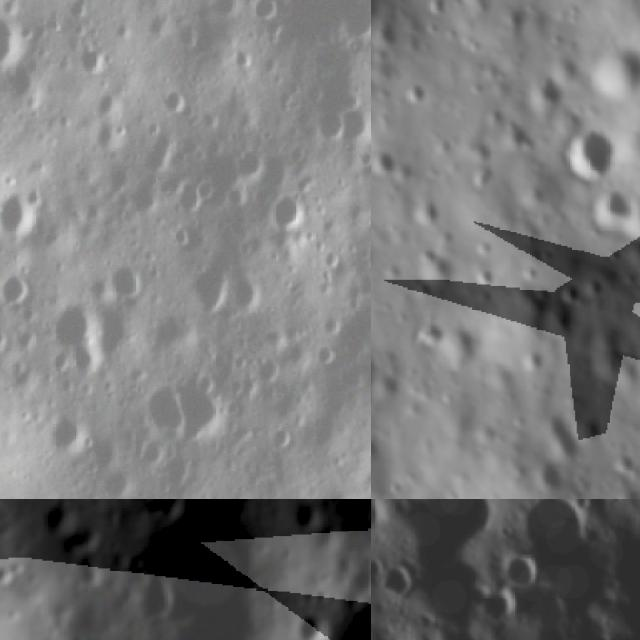crater: (447, 512, 640, 640), (43, 293, 99, 358), (561, 123, 620, 181), (589, 39, 640, 103), (134, 375, 182, 442), (0, 179, 43, 242), (430, 321, 483, 372), (185, 259, 230, 319), (544, 406, 588, 461), (45, 407, 94, 455), (327, 588, 371, 640), (476, 582, 516, 638), (268, 186, 316, 232), (327, 0, 371, 47), (0, 9, 31, 75), (506, 547, 546, 598), (594, 186, 635, 234), (224, 270, 266, 316), (528, 454, 568, 495), (106, 260, 144, 302), (336, 103, 371, 148), (71, 42, 108, 84), (293, 598, 330, 640), (381, 563, 421, 600), (38, 499, 80, 534), (529, 70, 563, 113), (98, 463, 138, 499), (408, 190, 445, 227), (412, 313, 449, 350), (0, 270, 34, 309), (160, 82, 192, 120), (265, 418, 300, 452), (398, 72, 429, 106), (288, 499, 322, 529), (245, 0, 282, 26), (371, 145, 399, 177), (518, 347, 548, 374), (613, 449, 640, 477), (626, 191, 640, 242), (559, 278, 584, 305), (584, 273, 608, 300), (371, 499, 388, 534), (474, 266, 496, 292), (423, 0, 449, 16)
